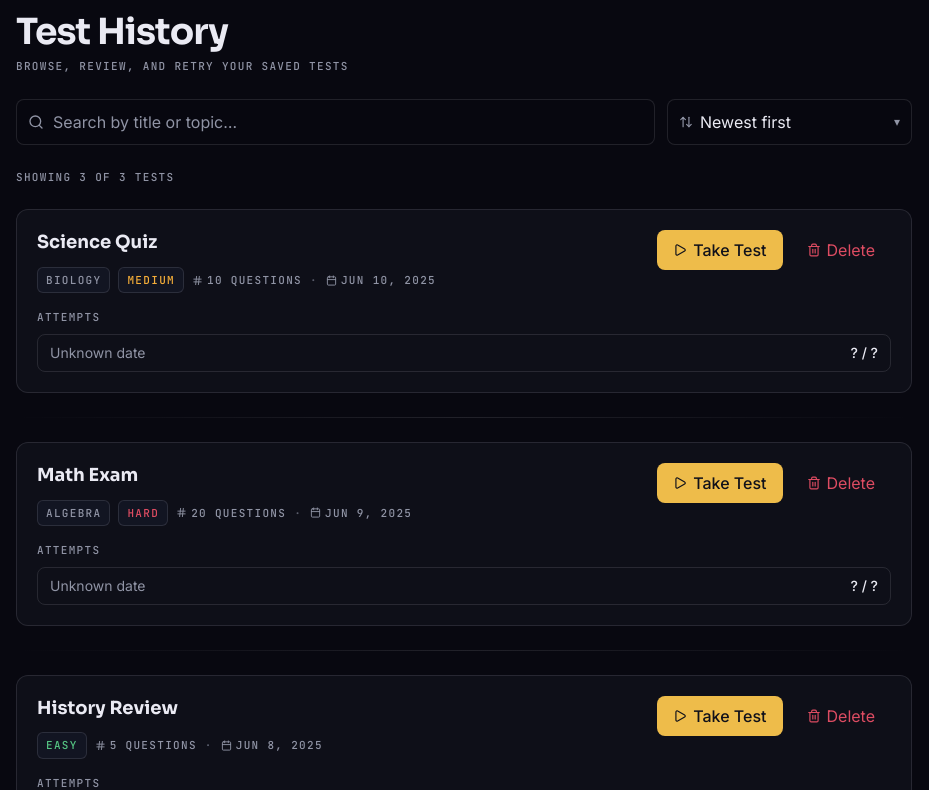
TestHistory › filters tests by search query
The image size is (929, 790).
Check: the heading "Science Quiz" is shown, box x1=37 y1=231 x2=157 y2=253
Type "math" into the search field with placeholder "Search by title or topic…" at (336,122), box x1=16 y1=98 x2=655 y2=144
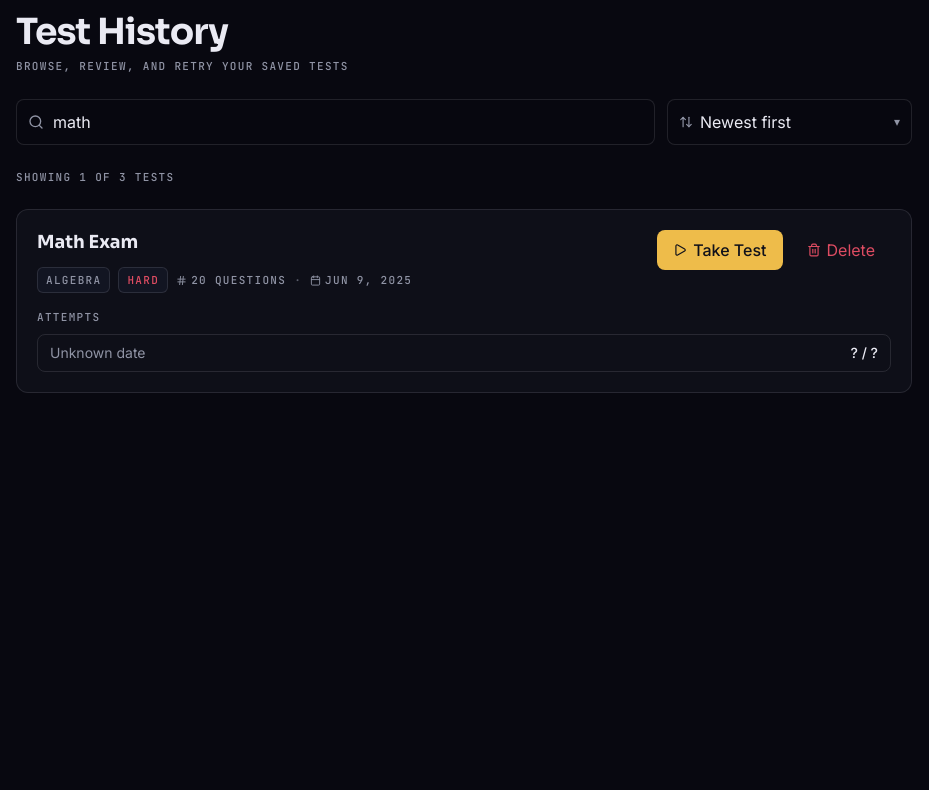
Check: the heading "Math Exam" is shown, box x1=37 y1=231 x2=138 y2=253
Check: the heading "Science Quiz" is gone
